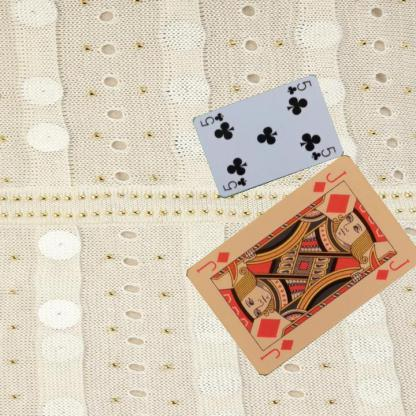5c: (284, 78, 313, 96), (220, 175, 248, 192)
Jd: (310, 168, 348, 195), (257, 337, 295, 362)
